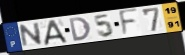5: (93, 13, 114, 38)
7: (140, 6, 162, 33)
A: (43, 18, 69, 47)
D: (67, 16, 92, 43)
F: (118, 7, 140, 38)
N: (18, 21, 44, 49)
